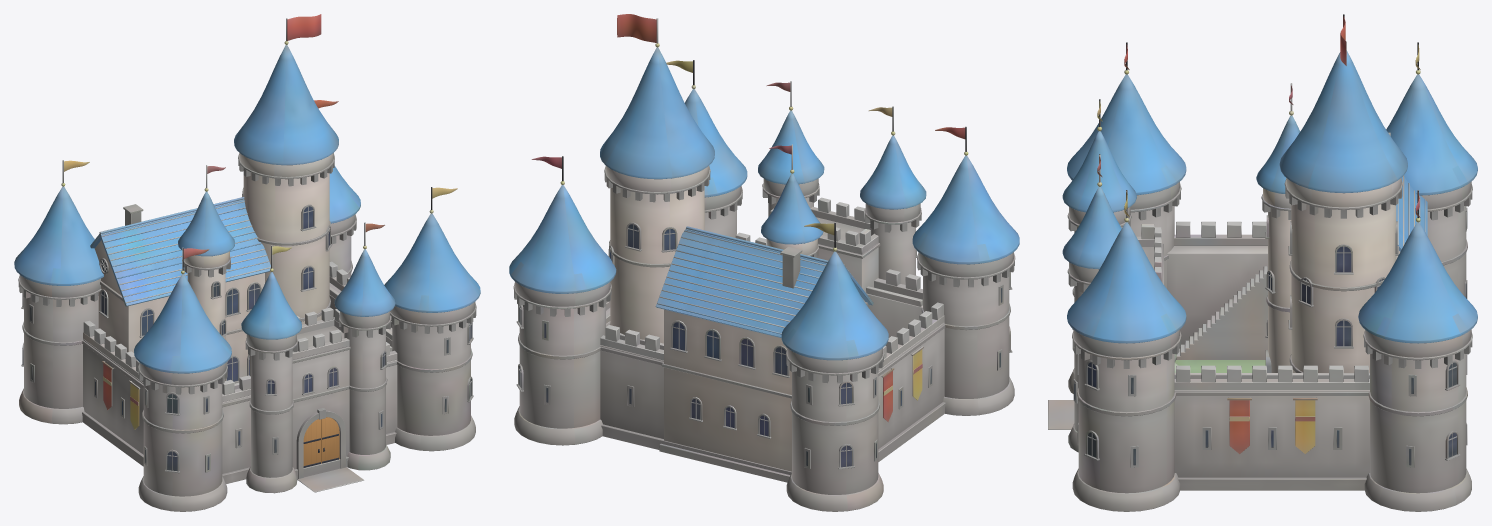
The model's file is castle.glb.
3 renders of one model, left to right at view 1: azimuth 30°, elevation 25°; view 2: azimuth 150°, elevation 25°; view 3: azimuth 270°, elevation 25°, orthographic. The views are drawn at different scales.
Parts seen in each view (by area): view 1: castle_body, castle_gate_leaf_right, castle_gate_leaf_left; view 2: castle_body; view 3: castle_body.
Part boxes in pixels (bbox=[...]): castle_body: bbox=[14, 14, 480, 511]; castle_gate_leaf_right: bbox=[321, 417, 339, 463]; castle_gate_leaf_left: bbox=[303, 419, 320, 467]; castle_body: bbox=[509, 14, 1019, 511]; castle_body: bbox=[1048, 14, 1477, 511].
Bounding box in the file's own units: 32.2 × 33.45 × 29.5.
5 materials, 1 textured.
